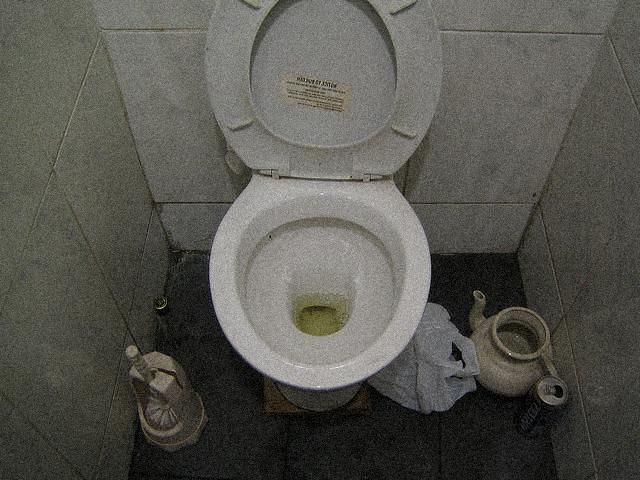Sanitario: (204, 0, 454, 416)
